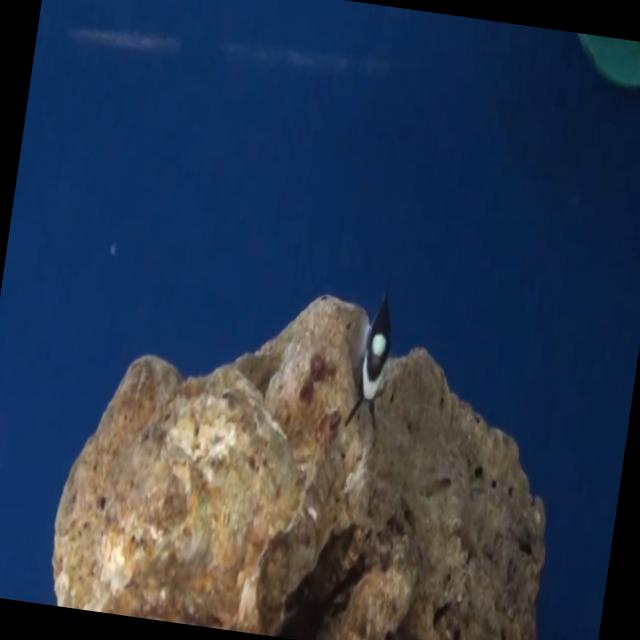ThreeStripedDamselfish: (345, 299, 392, 430)
